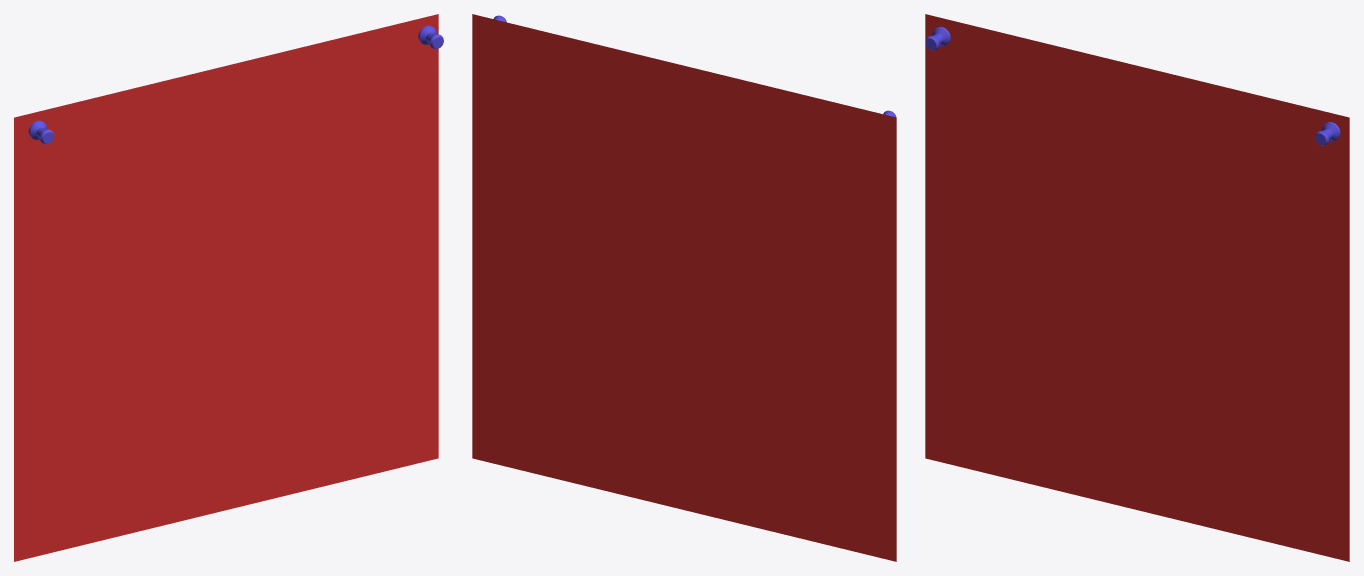
File: menu_start.fbx
3 renders of one model, left to right at view 1: azimuth 30°, elevation 25°; view 2: azimuth 150°, elevation 25°; view 3: azimuth 330°, elevation 25°, orthographic.
Visible parts, largest first — view 1: Cylinder.006; view 2: Cylinder.006; view 3: Cylinder.006.
Part boxes in pixels (bbox=[...]): Cylinder.006: bbox=[14, 14, 443, 561]; Cylinder.006: bbox=[472, 14, 896, 561]; Cylinder.006: bbox=[925, 14, 1349, 561].
Bounding box in the file's own units: 102 × 102 × 6.
